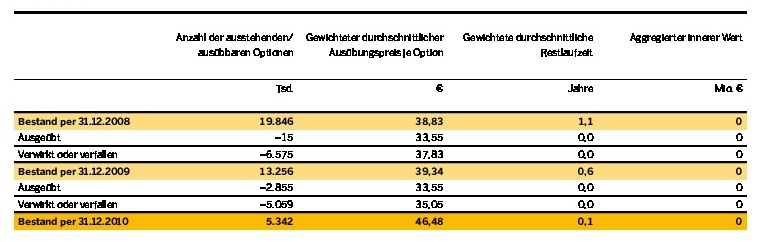table: (0, 0, 761, 242)
